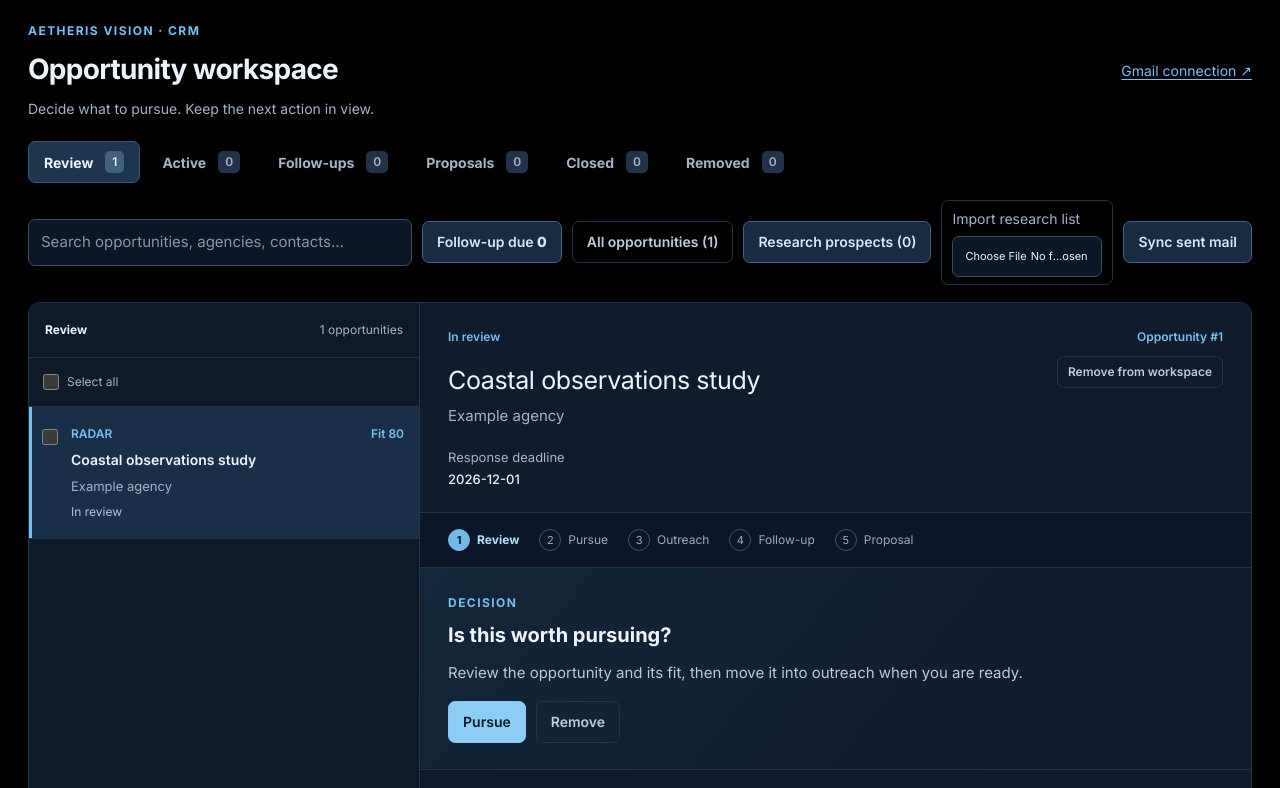
Test: opportunity workspace user journeys › reuses an activity ID after uncertain transport failure but does not duplicate click requests
This screenshot has width=1280, height=788.
Expected: the heading "Coastal observations study" is shown, [448,364,760,394]
Click the button "Pursue": (487, 722) [448,701,526,743]
(page scrolled)
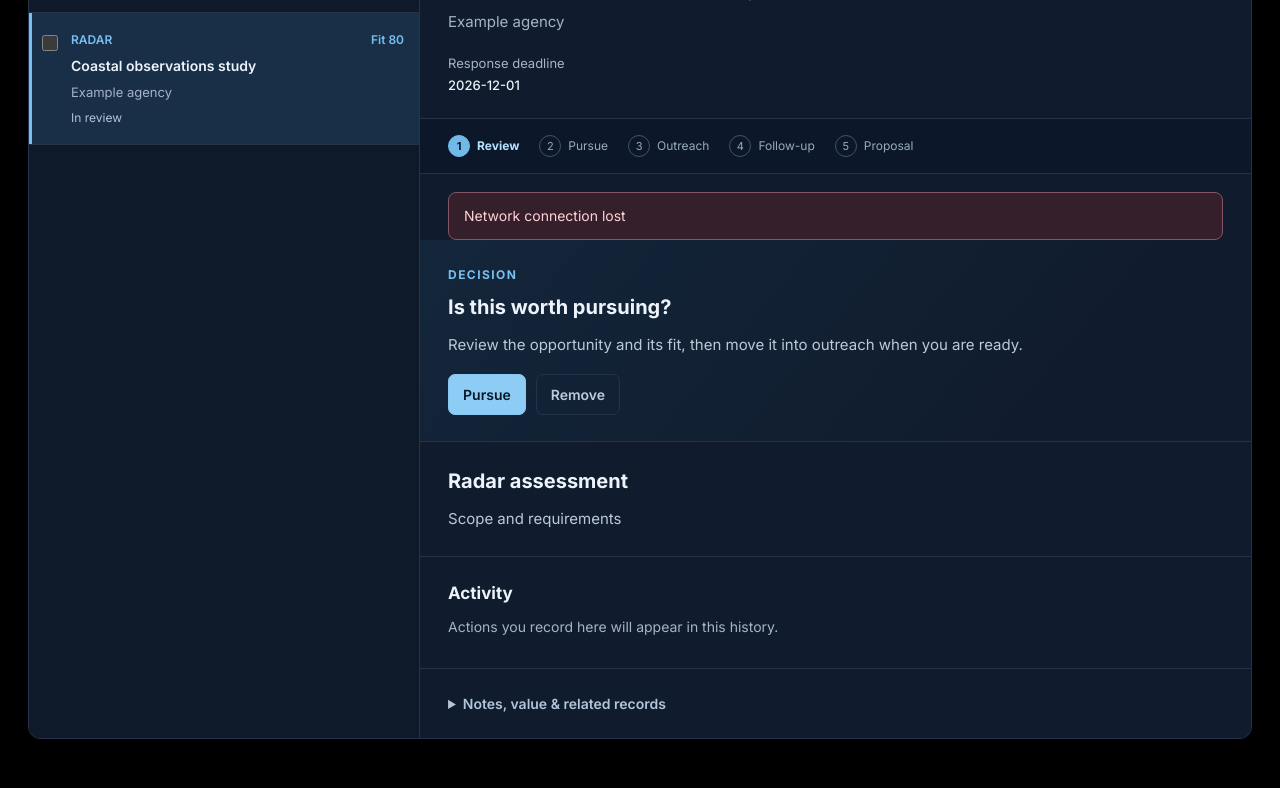
Result: the message "Network connection lost" is shown at [448,192,1223,240]
Click the button "Pursue": (487, 394) [448,374,526,415]
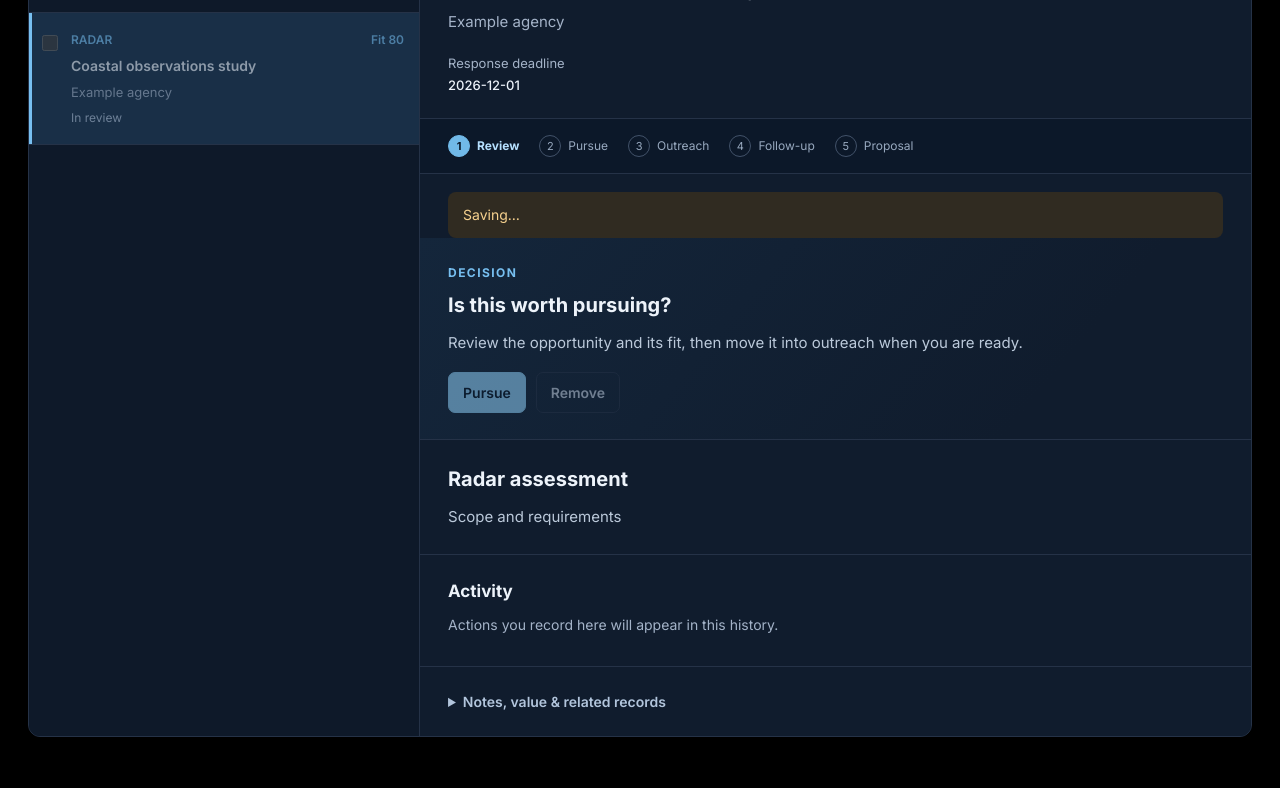
Click the button "Pursue": (487, 392) [448,372,526,413]
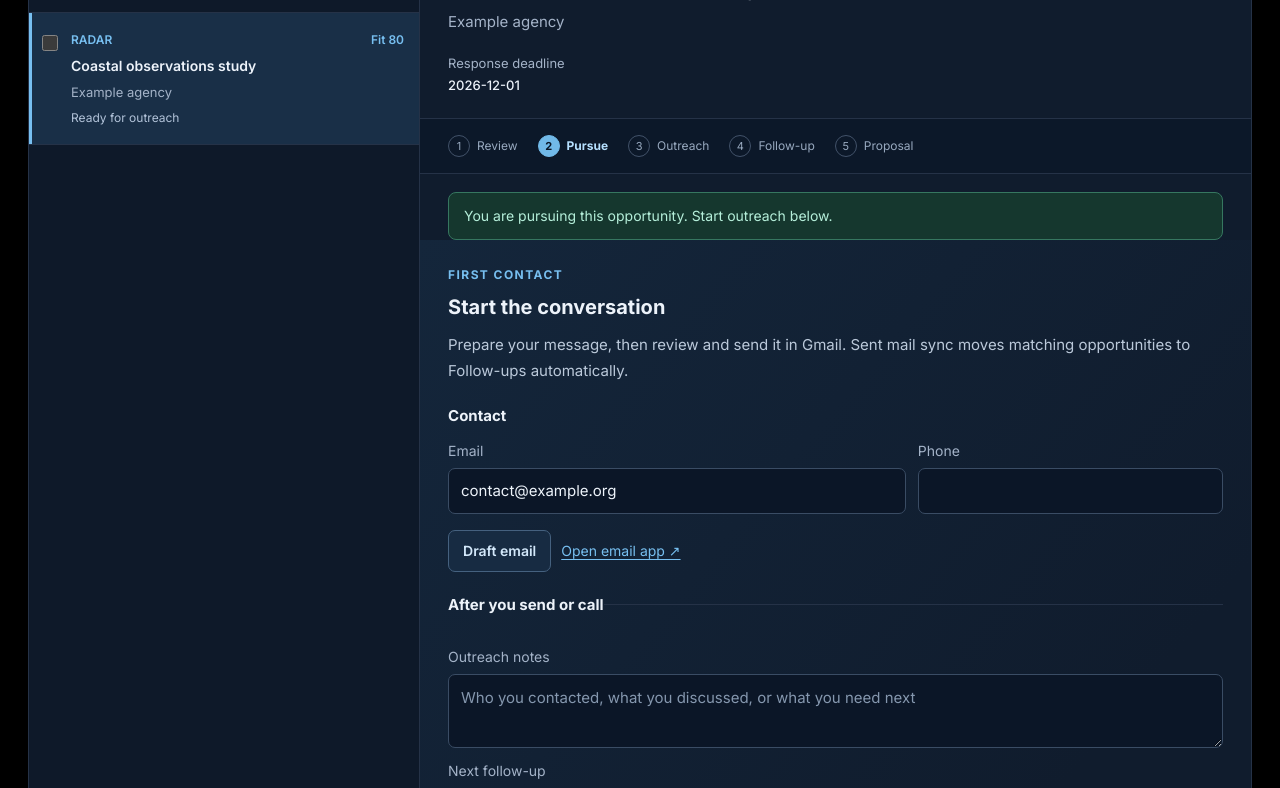
Result: the heading "Start the conversation" is shown at [448,295,665,319]
